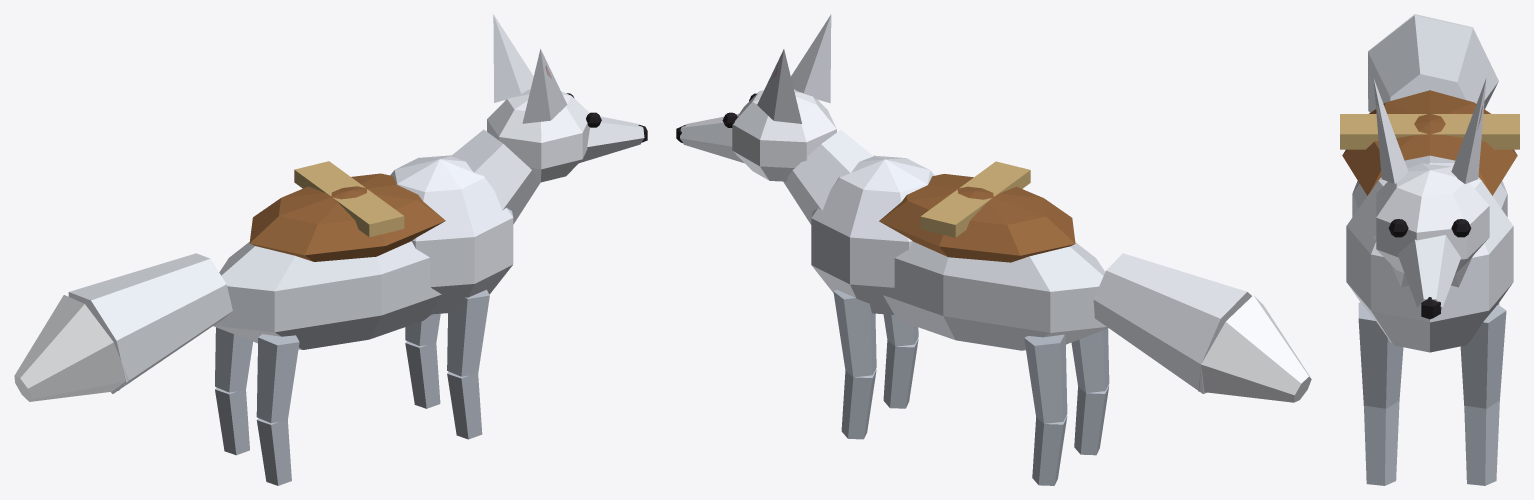
File: snow_fox.glb
3 views of the same model, side by side, from view 1: azimuth 30°, elevation 25°; view 2: azimuth 150°, elevation 25°; view 3: azimuth 270°, elevation 25° (orthographic). The views are drawn at different scales.
Visible parts, largest first — view 1: body, tail, pet_armor, head, leg_br, leg_fr, leg_bl, leg_fl; view 2: body, tail, pet_armor, head, leg_bl, leg_fl, leg_br, leg_fr; view 3: head, body, pet_armor, tail, leg_fl, leg_fr.
Boxes of the visible parts, x1,y1,x2,y2 form: body: (213,129,540,349); tail: (14,253,232,401); pet_armor: (249,161,445,261); head: (487,14,647,182); leg_br: (256,334,299,485); leg_fr: (447,289,489,439); leg_bl: (215,327,252,455); leg_fl: (405,313,440,408); body: (783,130,1108,350); tail: (1093,253,1311,402); pet_armor: (879,161,1075,262); head: (676,14,836,181); leg_bl: (1024,334,1067,485); leg_fl: (833,290,876,439); leg_br: (1071,328,1109,455); leg_fr: (883,314,918,408); head: (1373,78,1489,319); body: (1346,155,1513,352); pet_armor: (1340,90,1519,195); tail: (1368,14,1498,112); leg_fl: (1460,305,1506,485); leg_fr: (1358,302,1403,485).
Size of the model in its own units: 1.39 by 0.7827 by 0.287.
